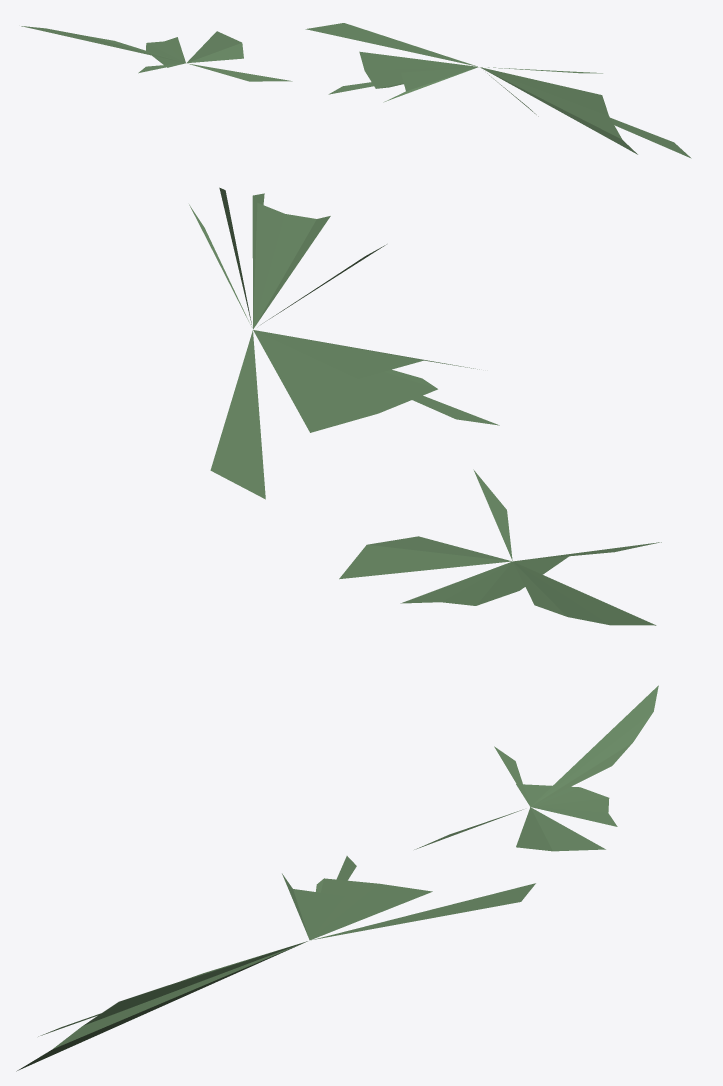
The model's file is c_1670_17814_forest.glb.
3 renders of one model, top to bottom at view 1: azimuth 30°, elevation 25°; view 2: azimuth 150°, elevation 25°; view 3: azimuth 270°, elevation 25°, orthographic. The views are drawn at different scales.
Visible parts, largest first — view 1: geometry_0; view 2: geometry_0; view 3: geometry_0.
Boxes of the visible parts, x1,y1,x2,y2 form: geometry_0: (21,23,691,158); geometry_0: (189,187,661,625); geometry_0: (16,685,658,1071).
Bounding box in the file's own units: 309 × 42.93 × 305.
